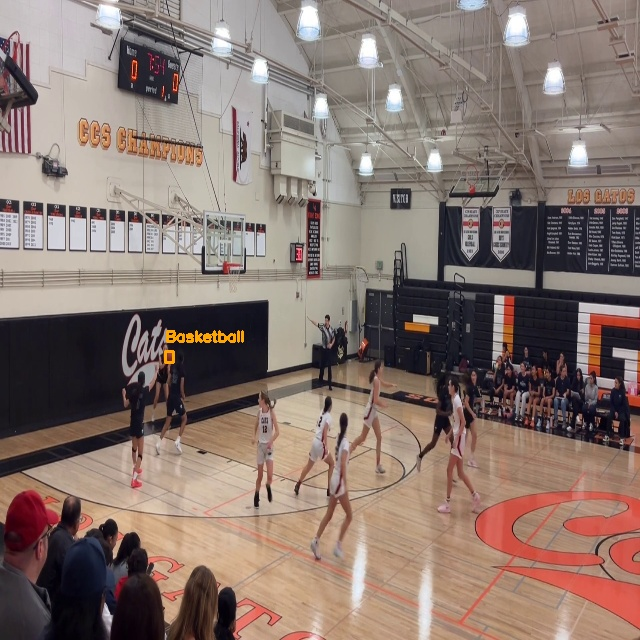Basketball: (165, 351, 173, 362)
